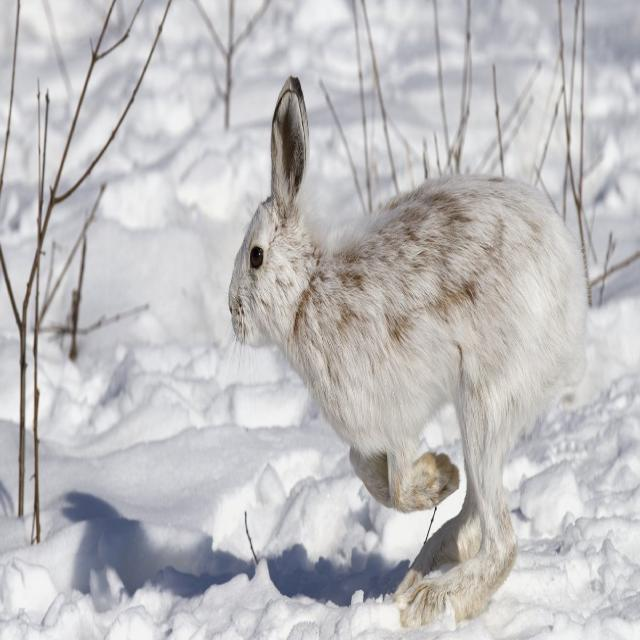Hare: (224, 60, 589, 626)
